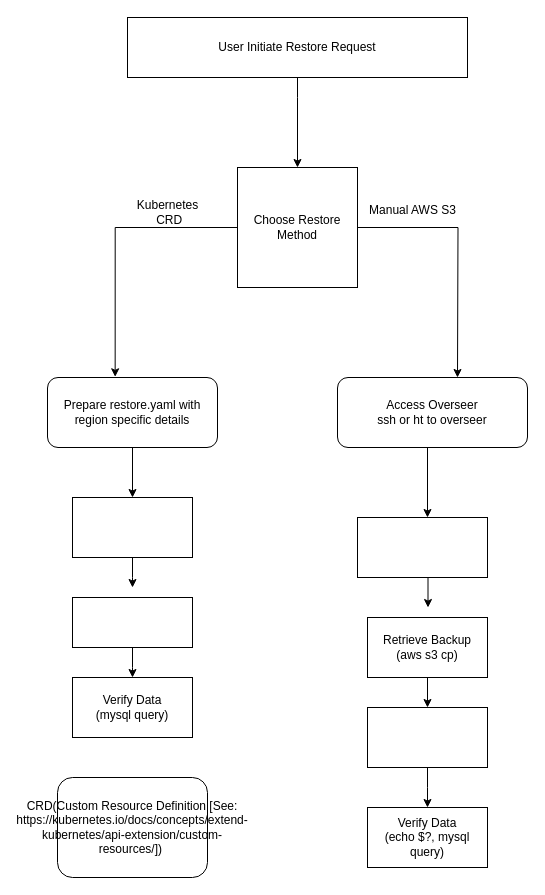
Image size: 545x895. Some labels were removed from this diagram. Here are the shapes that lost their labels. From the top down, the centre of each, then its label:
At (132,527): "Apply CRD (kubectl apply)".
At (422,547): "Verify Aws CLI Configuration".
At (132,622): "Monitor Restore (kubectl get, describe, logs)".
At (427,737): "Restore Backup (mysql < backup.sql)".
